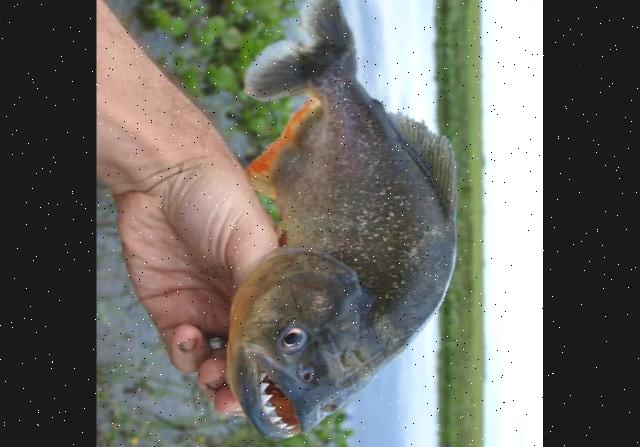Mulut: (236, 337, 322, 447)
Sirip Anal: (242, 88, 330, 204)
Sirip Ekor: (218, 0, 373, 111)
Sirip Punggung: (358, 91, 471, 234)
